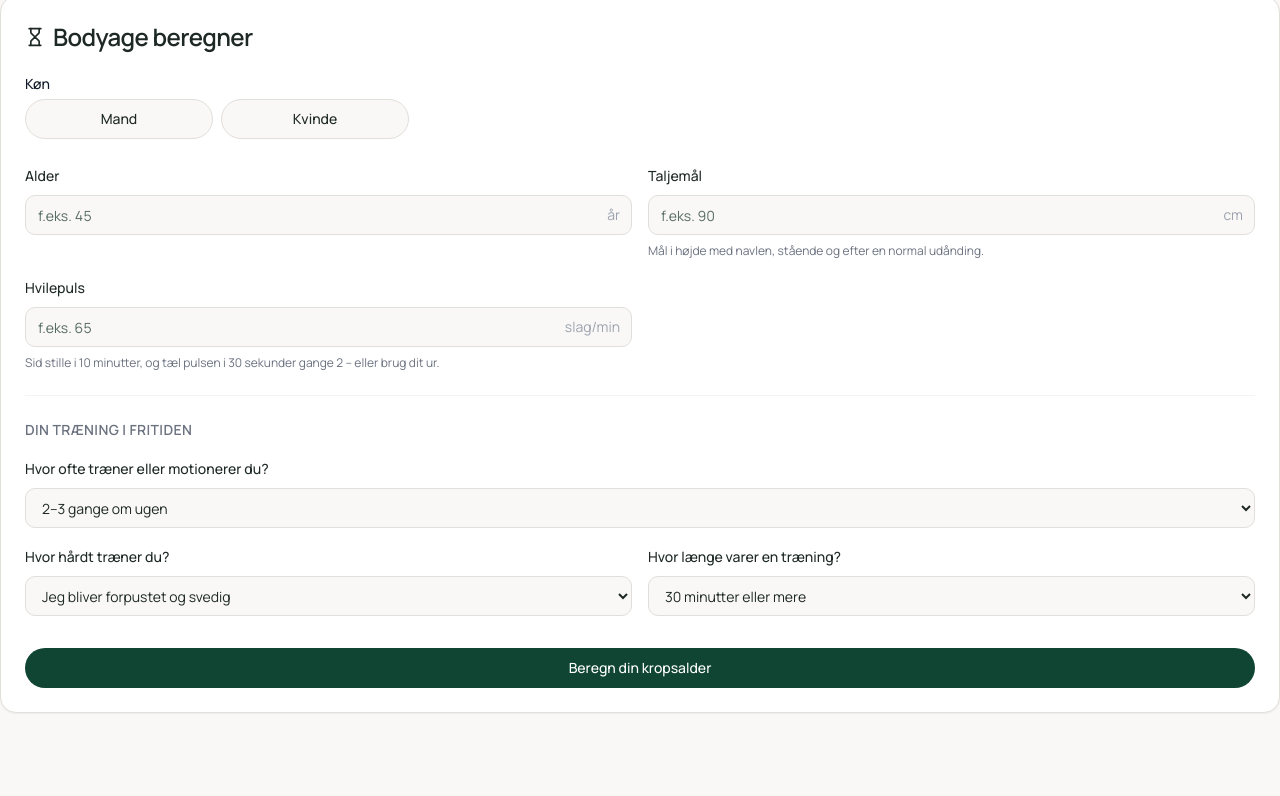
BodyAgeCalculator › shows the body age against the real age
Click the button "Mand".
click(119, 119)  # box [25,99,213,139]
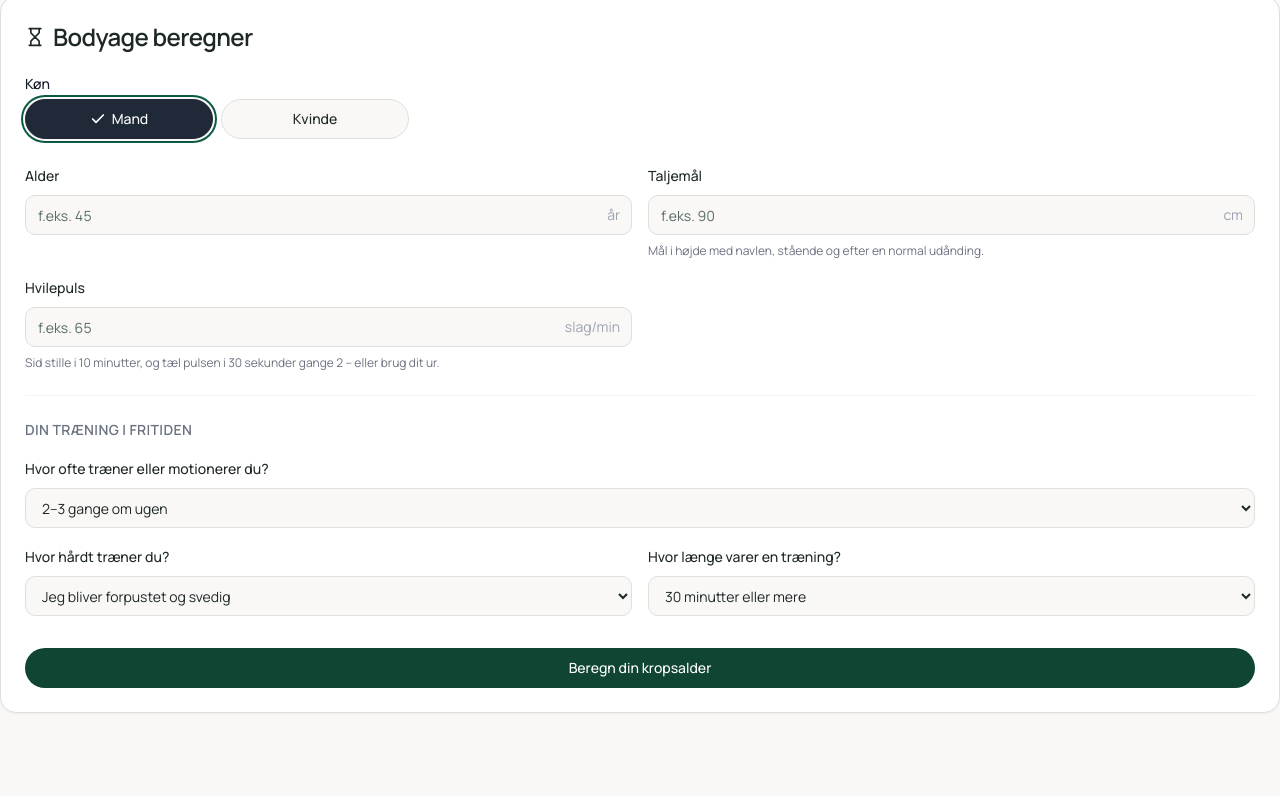
Type "40" into the field labelled "Alder".
click(328, 215); type("40")  # box [25,195,632,235]
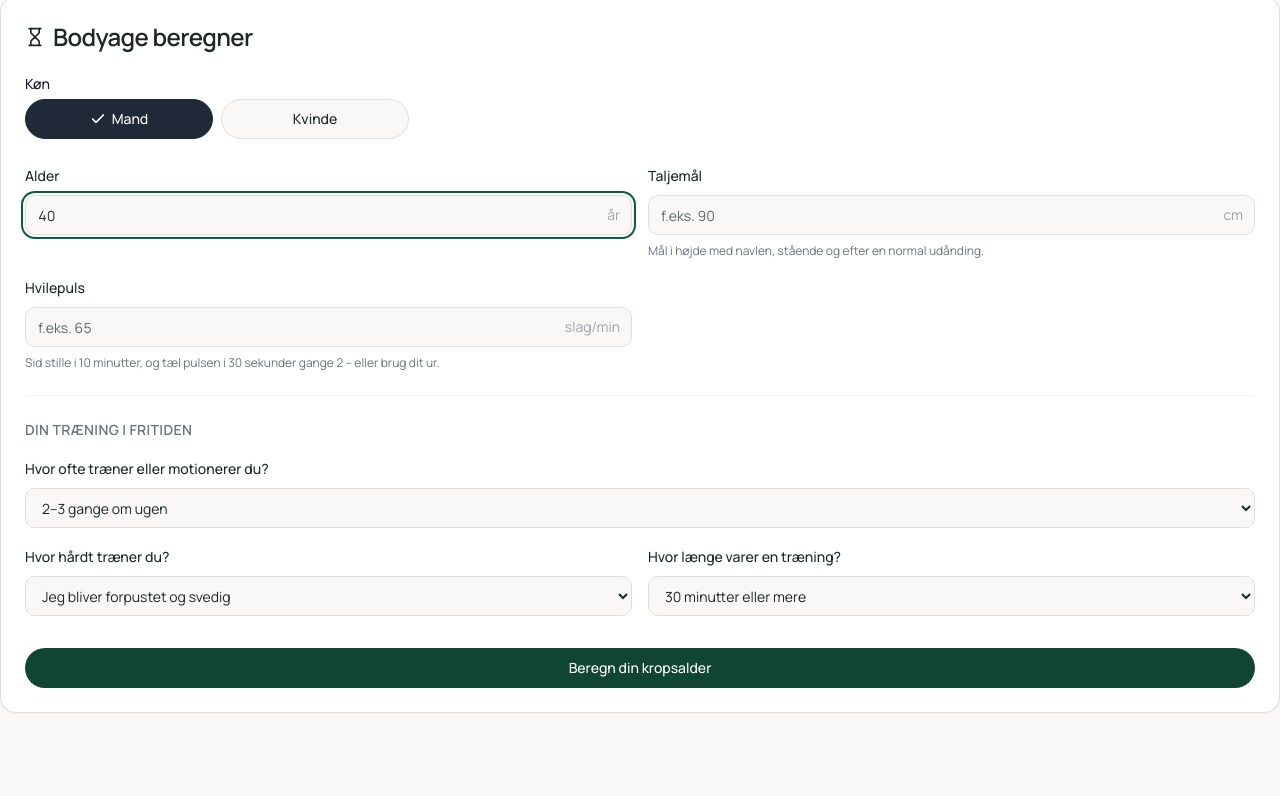
Type "90" into the field labelled "Taljemål".
click(952, 215); type("90")  # box [648,195,1255,235]
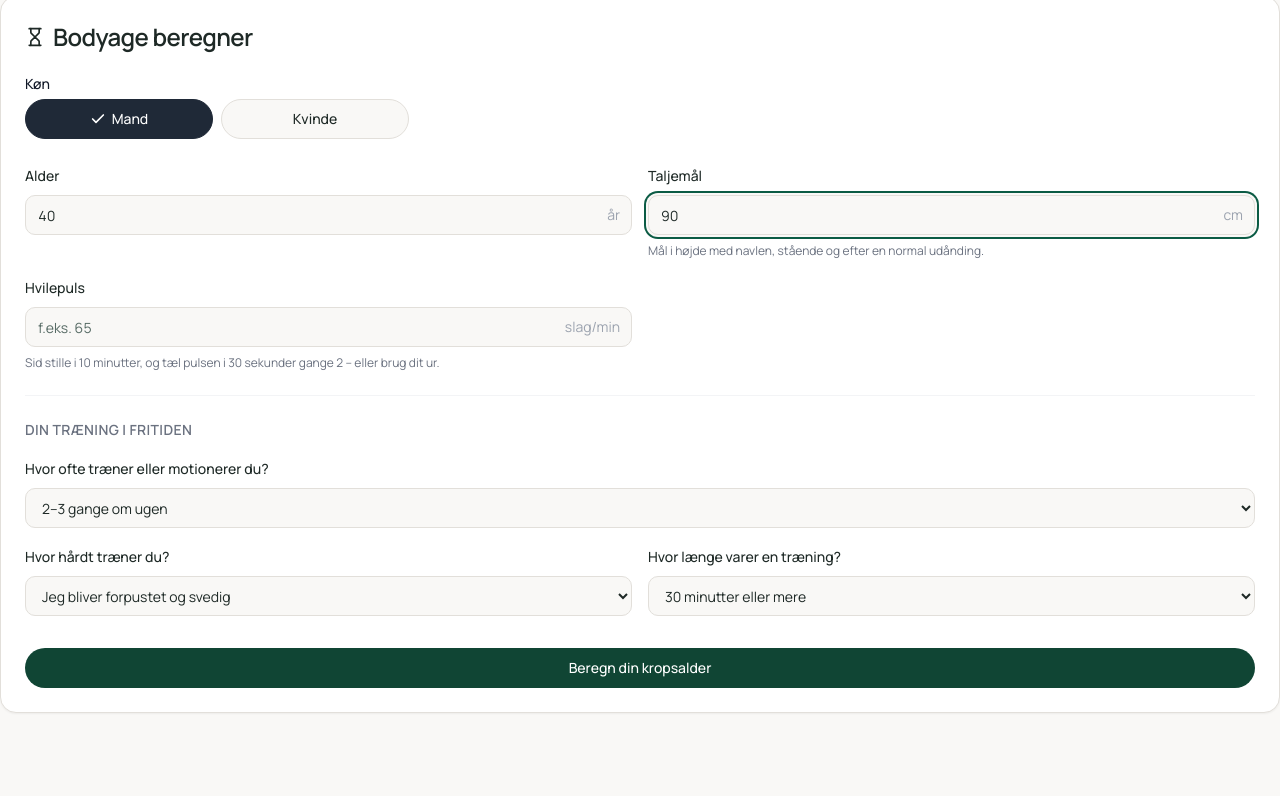
Type "65" into the field labelled "Hvilepuls".
click(328, 327); type("65")  # box [25,307,632,347]
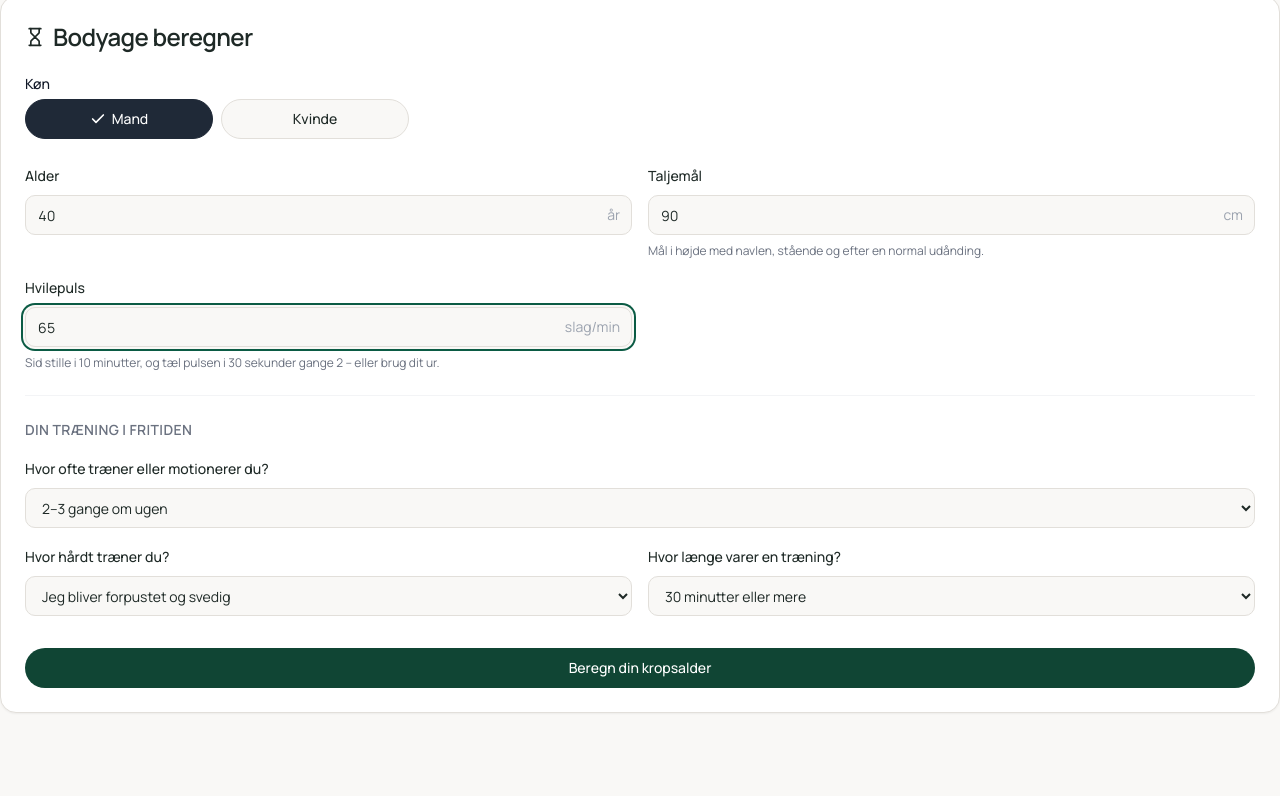
Click the button "Beregn din kropsalder".
click(640, 668)  # box [25,648,1255,688]
(page scrolled)
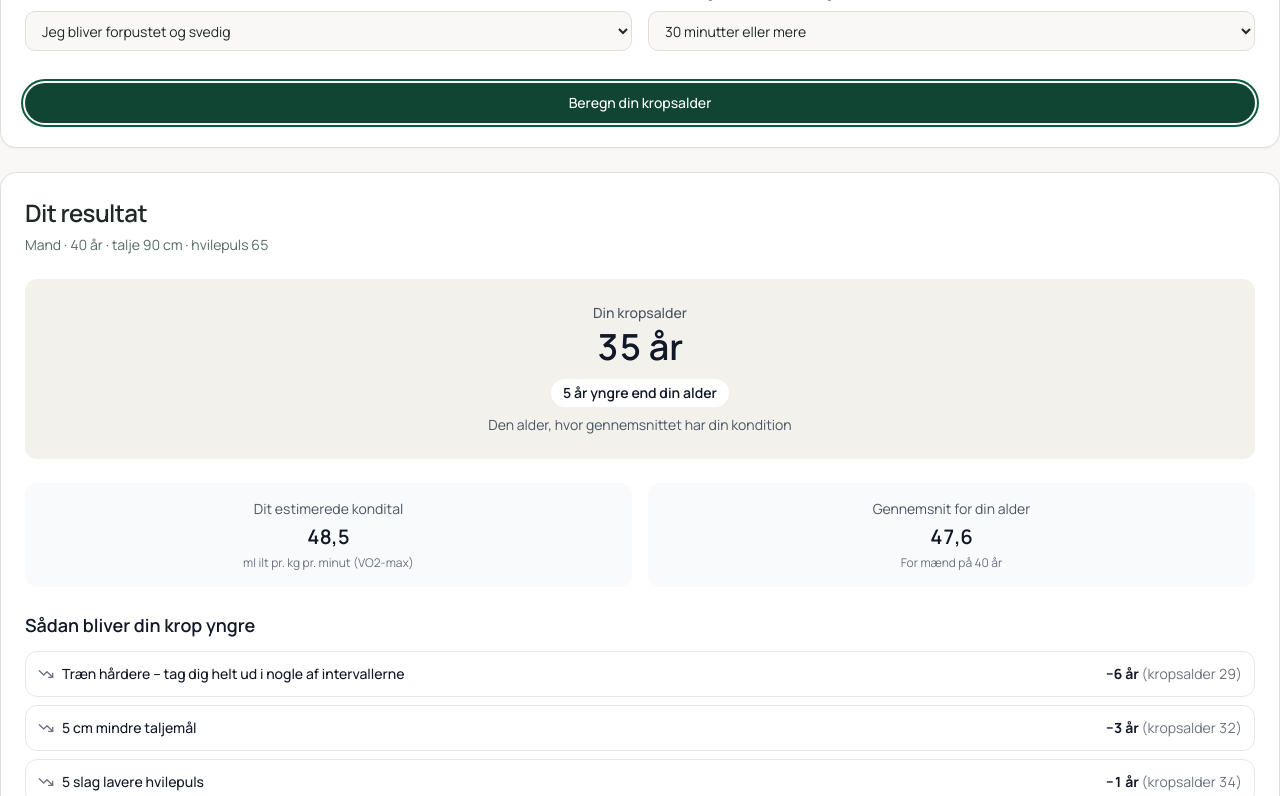
Now the text "35 år" is shown, box [597,322,683,371]
Now the text "5 år yngre end din alder" is shown, box [551,379,729,407]
Now the text "48,5" is shown, box [307,523,350,550]
